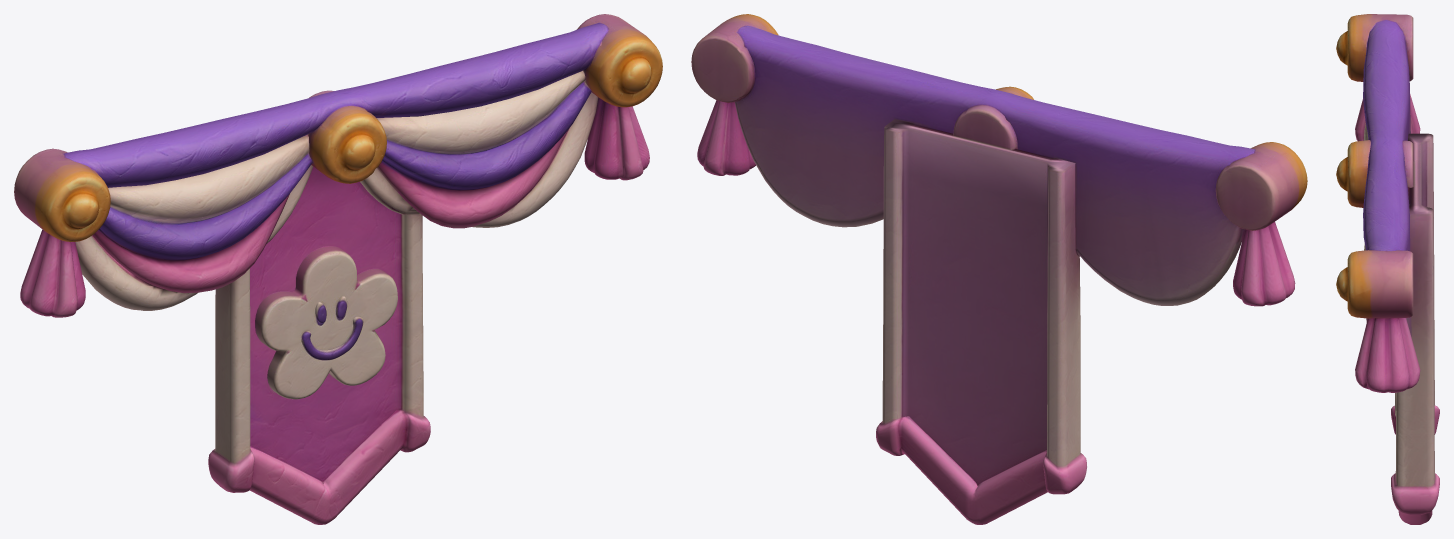
File: dream-banner.glb
3 views of the same model, side by side, from view 1: azimuth 30°, elevation 25°; view 2: azimuth 150°, elevation 25°; view 3: azimuth 270°, elevation 25° (orthographic). The views are drawn at different scales.
Visible parts, largest first — view 1: ba2e0a3d_26f9_4c21_a60e_8fd69519914c; view 2: ba2e0a3d_26f9_4c21_a60e_8fd69519914c; view 3: ba2e0a3d_26f9_4c21_a60e_8fd69519914c.
Boxes of the visible parts, bbox=[...] form: ba2e0a3d_26f9_4c21_a60e_8fd69519914c: bbox=[14, 14, 662, 524]; ba2e0a3d_26f9_4c21_a60e_8fd69519914c: bbox=[691, 14, 1307, 524]; ba2e0a3d_26f9_4c21_a60e_8fd69519914c: bbox=[1336, 14, 1439, 524].
Size of the model in its own units: 0.9995 by 0.6851 by 0.1655.
Materials: 1 (1 with a texture image).
